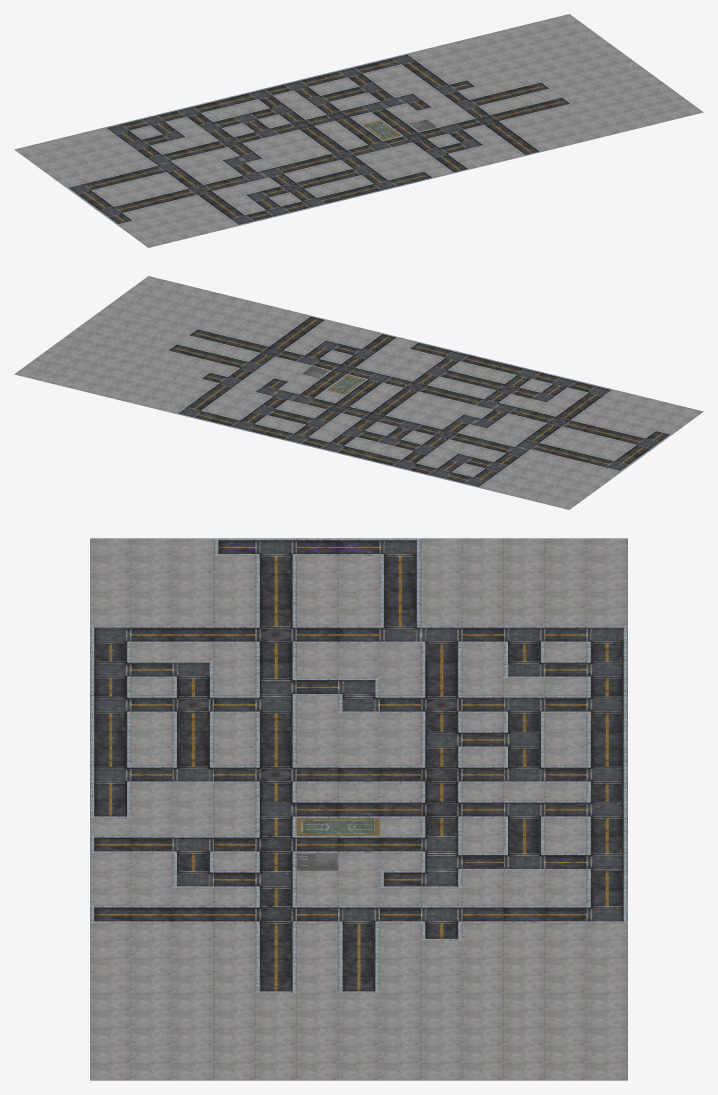
3 views of the same model, one above another, from view 1: azimuth 30°, elevation 25°; view 2: azimuth 150°, elevation 25°; view 3: azimuth 270°, elevation 25° (orthographic). The views are drawn at different scales.
Parts seen in each view (by area): view 1: BD_ConcreteBlock1; view 2: BD_ConcreteBlock1; view 3: BD_ConcreteBlock1.
Boxes of the visible parts, x1,y1,x2,y2 form: BD_ConcreteBlock1: (14,14,703,247); BD_ConcreteBlock1: (14,276,703,509); BD_ConcreteBlock1: (90,538,627,1080).
Bounding box in the file's own units: 272 × 0.1043 × 114.
3 materials, 3 textured.
